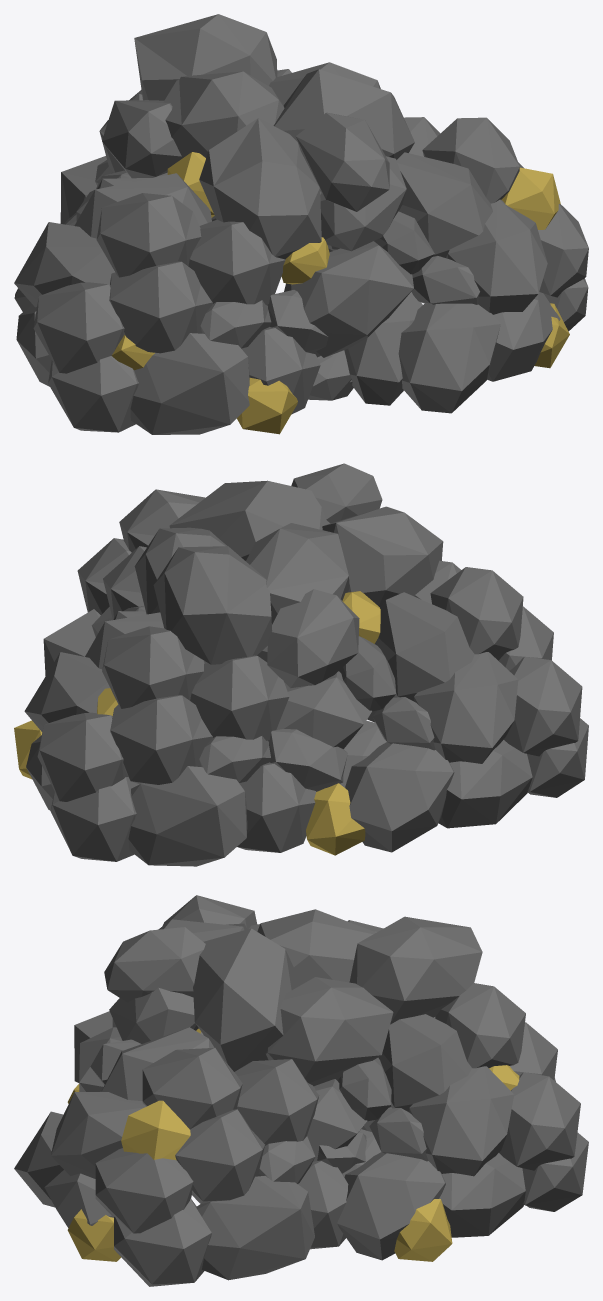
The model's file is Mine_Gold_Resources.fbx.
The picture shows the model from 3 angles, top to bottom: view 1: azimuth 30°, elevation 25°; view 2: azimuth 150°, elevation 25°; view 3: azimuth 270°, elevation 25°; orthographic projection. The views are drawn at different scales.
Visible parts, largest first — view 1: Caverne.001, Caverne, Icosphere.007, Icosphere.006, Icosphere.010, Icosphere.011, Icosphere.008, Icosphere.004, Icosphere.005, Caverne.002, Icosphere.016, Icosphere.002 (+5 smaller); view 2: Caverne.002, Caverne.001, Icosphere.006, Caverne, Icosphere.007, Icosphere.004, Icosphere.008, Icosphere.010, Icosphere.011, Icosphere.013, Icosphere.009, Icosphere.012 (+1 smaller); view 3: Caverne, Caverne.002, Icosphere.008, Icosphere.006, Icosphere.009, Icosphere.011, Icosphere.010, Icosphere.005, Icosphere.002, Caverne.001, Icosphere.014, Icosphere.015 (+1 smaller).
Boxes of the visible parts, x1,y1,x2,y2 form: Caverne.001: (14,170,353,434); Caverne: (284,117,588,413); Icosphere.007: (199,118,321,259); Icosphere.006: (134,14,277,100); Icosphere.010: (163,71,284,158); Icosphere.011: (296,112,389,211); Icosphere.008: (273,69,414,159); Icosphere.004: (102,100,181,178); Icosphere.005: (320,156,406,251); Caverne.002: (60,69,339,252); Icosphere.016: (237,377,297,434); Icosphere.002: (501,167,560,229); Caverne.002: (24,606,347,866); Caverne.001: (276,560,588,852); Icosphere.006: (153,546,272,664); Caverne: (43,489,377,722); Icosphere.007: (322,506,443,606); Icosphere.004: (267,589,359,688); Icosphere.008: (169,480,330,560); Icosphere.010: (246,523,349,624); Icosphere.011: (291,463,382,523); Icosphere.013: (306,783,365,855); Icosphere.009: (134,527,226,614); Icosphere.012: (342,591,380,643); Caverne: (14,1027,366,1286); Caverne.002: (307,983,588,1260); Icosphere.008: (193,928,296,1071); Icosphere.006: (349,916,482,1024); Icosphere.009: (266,977,393,1086); Icosphere.011: (104,927,205,1002); Icosphere.010: (257,909,376,987); Icosphere.005: (109,987,198,1043); Icosphere.002: (121,1100,190,1160); Caverne.001: (74,895,391,1131); Icosphere.014: (394,1199,452,1261); Icosphere.015: (67,1209,121,1261).
Bounding box in the file's own units: 989 × 507 × 979.
